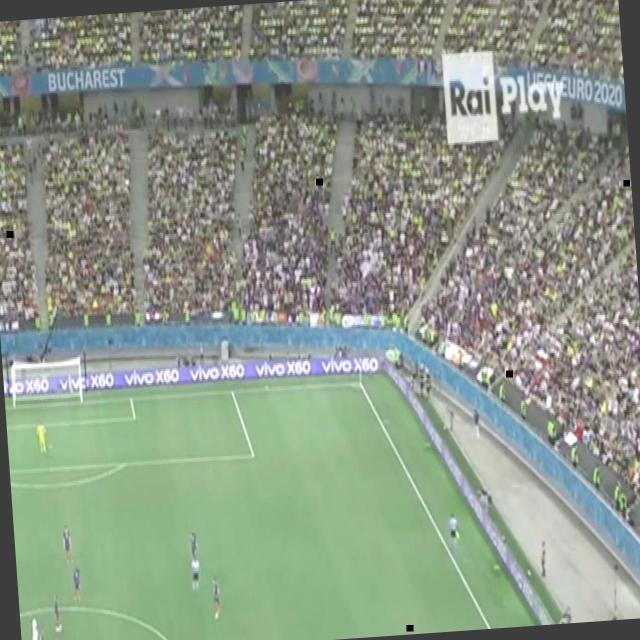ball: (526, 566, 532, 578), (442, 424, 448, 432)
player-white: (446, 511, 461, 556), (60, 522, 74, 568), (34, 419, 49, 456), (211, 575, 223, 621), (70, 566, 84, 604), (51, 592, 63, 634), (190, 553, 202, 591), (27, 609, 40, 640), (187, 530, 199, 556), (36, 625, 47, 640)
